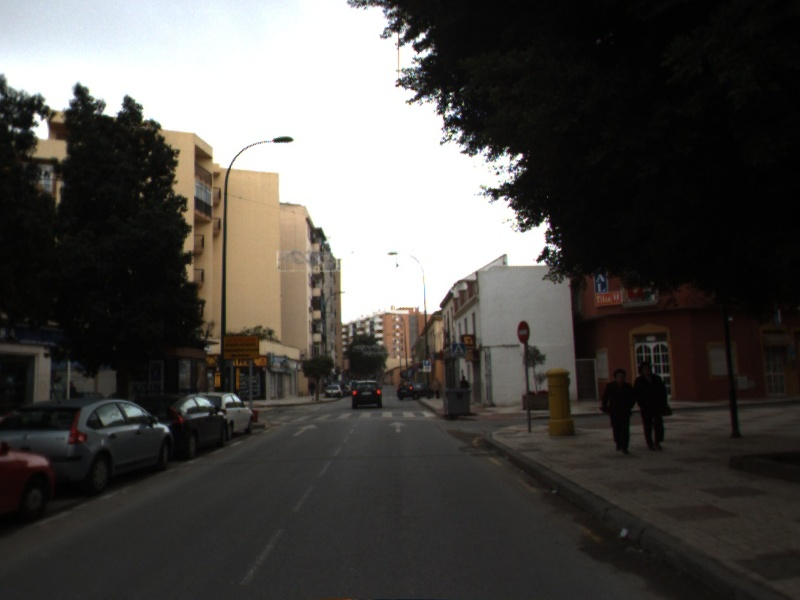STRAIGHT: (290, 422, 320, 438), (386, 419, 410, 435)
